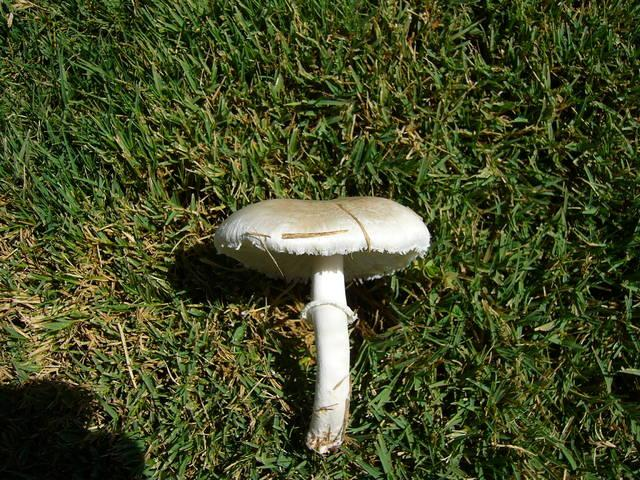Non-edible Mushroom: (212, 194, 431, 454)
